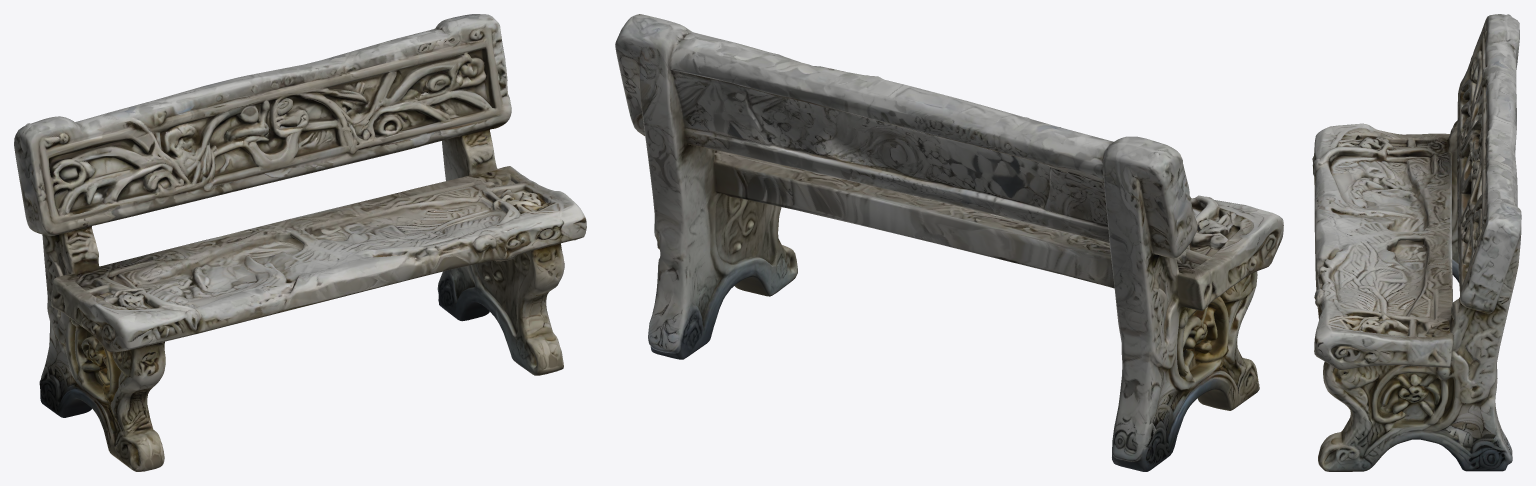
The model's file is plaza-bench-stone.glb.
3 renders of one model, left to right at view 1: azimuth 30°, elevation 25°; view 2: azimuth 150°, elevation 25°; view 3: azimuth 270°, elevation 25°, orthographic. The views are drawn at different scales.
Visible parts, largest first — view 1: tripo_node_13163de3-1b40-40ee-a910-e1313ee0e9c6; view 2: tripo_node_13163de3-1b40-40ee-a910-e1313ee0e9c6; view 3: tripo_node_13163de3-1b40-40ee-a910-e1313ee0e9c6.
Part boxes in pixels (x1,y1,x2,y2): tripo_node_13163de3-1b40-40ee-a910-e1313ee0e9c6: [14, 14, 586, 471]; tripo_node_13163de3-1b40-40ee-a910-e1313ee0e9c6: [615, 14, 1283, 471]; tripo_node_13163de3-1b40-40ee-a910-e1313ee0e9c6: [1312, 14, 1521, 471].
Bounding box in the file's own units: 1.74 × 0.9998 × 0.7186.
1 material, 1 textured.
